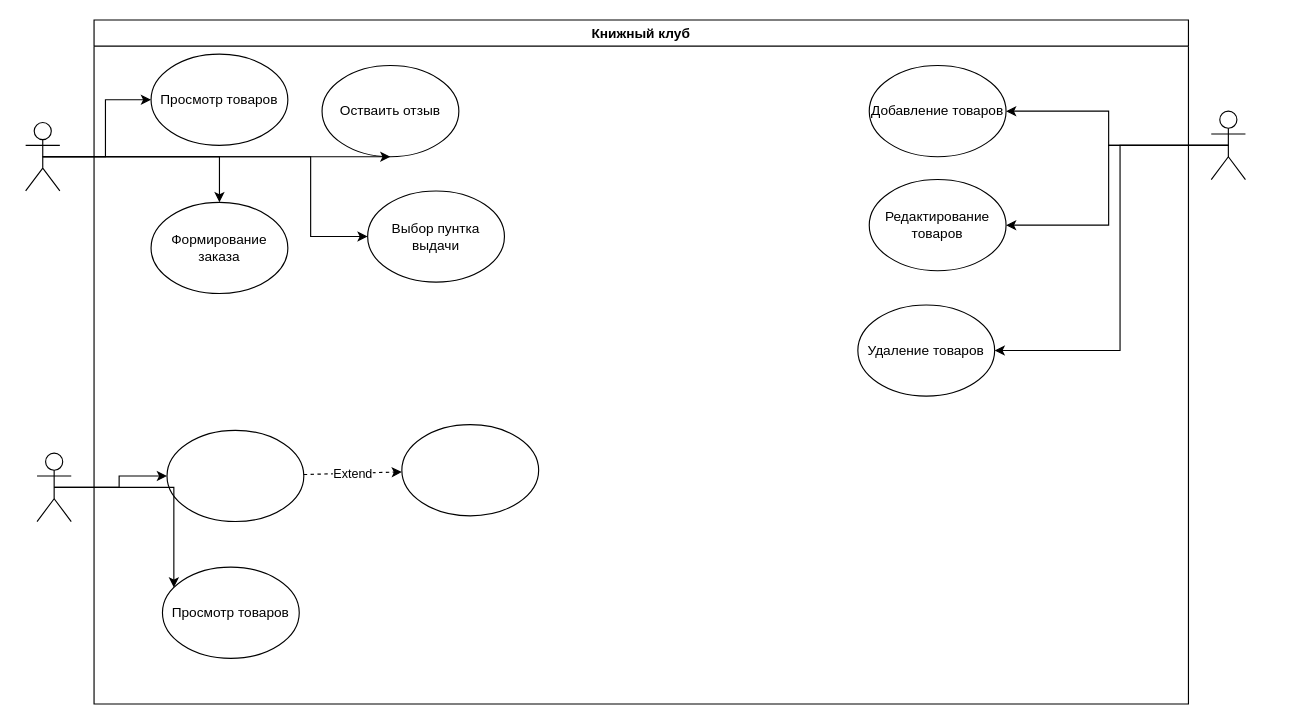
The diagram is 1297 pixels wide and 724 high, and some of its shapes have lost their labels. Each missing label, with the box of its shape:
Администратор: (1210, 110, 1245, 180)
Клиент: (25, 121, 60, 191)
Менеджер: (36, 452, 71, 522)
Редактировать заказы: (401, 424, 539, 516)
Формировать заказы: (166, 429, 304, 522)
